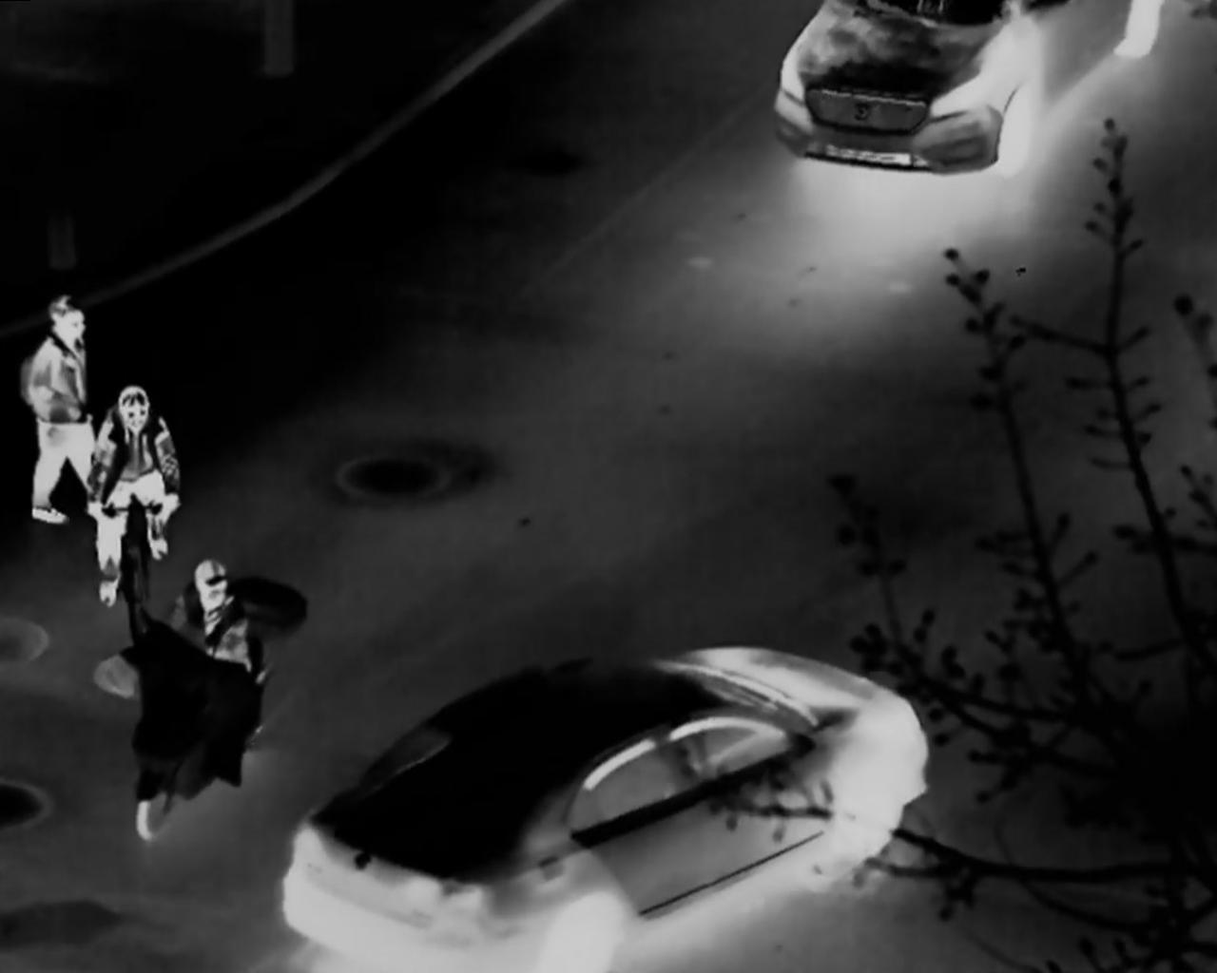person: (87, 385, 181, 604), (20, 296, 95, 524), (166, 556, 252, 676)
